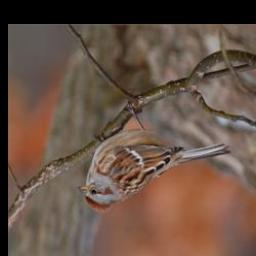Sparrow: (75, 101, 231, 212)
